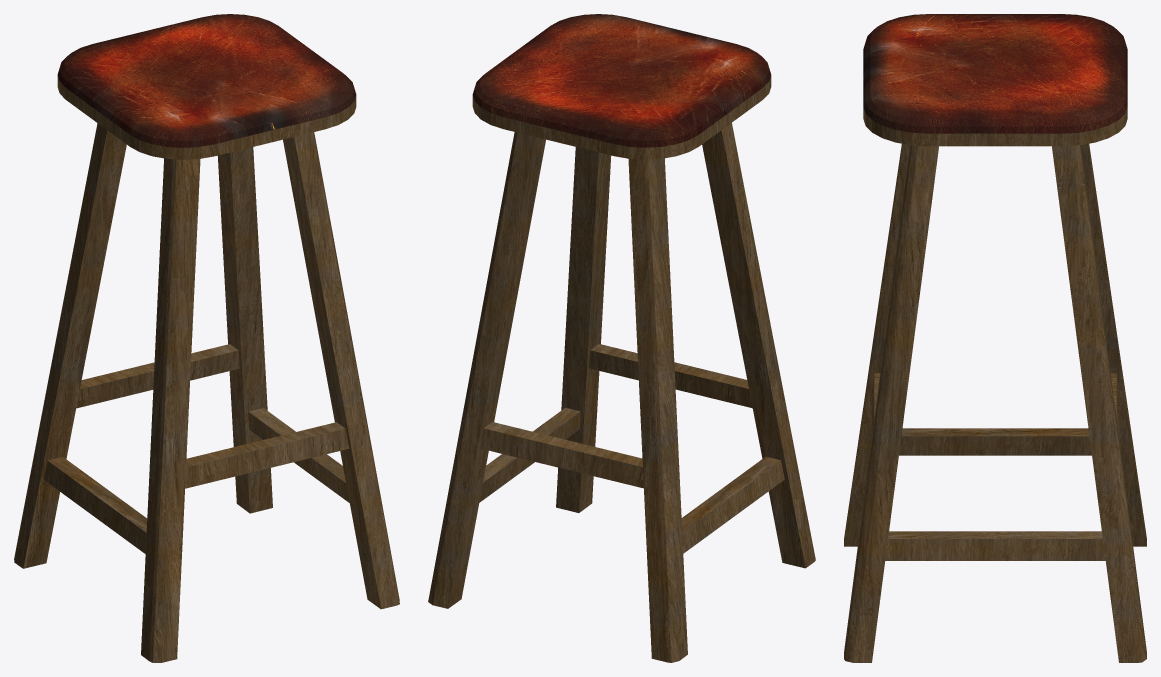
File: P_Stool.fbx
3 renders of one model, left to right at view 1: azimuth 30°, elevation 25°; view 2: azimuth 150°, elevation 25°; view 3: azimuth 270°, elevation 25°, orthographic. The views are drawn at different scales.
Visible parts, largest first — view 1: Empty_Mesh; view 2: Empty_Mesh; view 3: Empty_Mesh.
Boxes of the visible parts, <box> form: Empty_Mesh: <box>14,14,399,662</box>; Empty_Mesh: <box>428,14,815,662</box>; Empty_Mesh: <box>844,14,1146,662</box>.
Size of the model in its own units: 0.3789 by 0.7366 by 0.3789.
